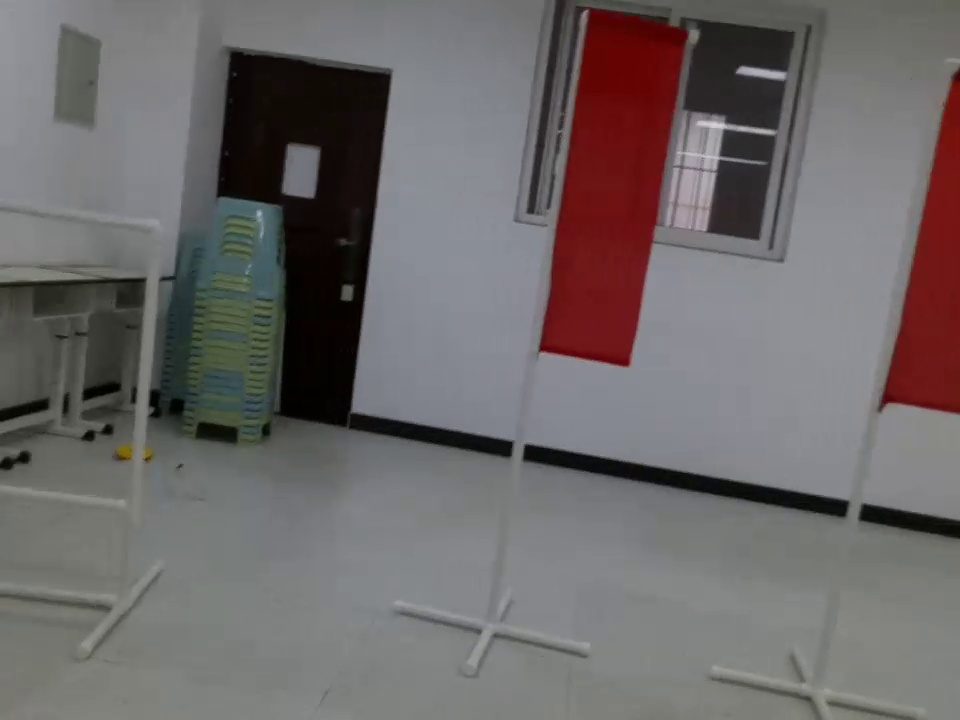qi: (539, 9, 703, 386), (851, 43, 960, 441)
